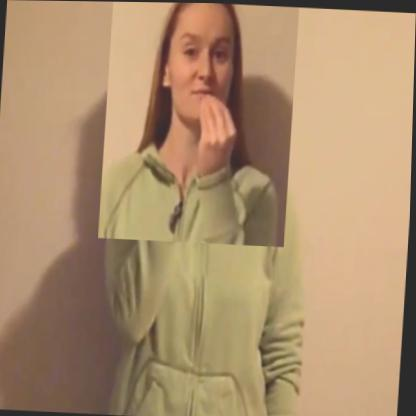Food: (99, 1, 299, 246)
